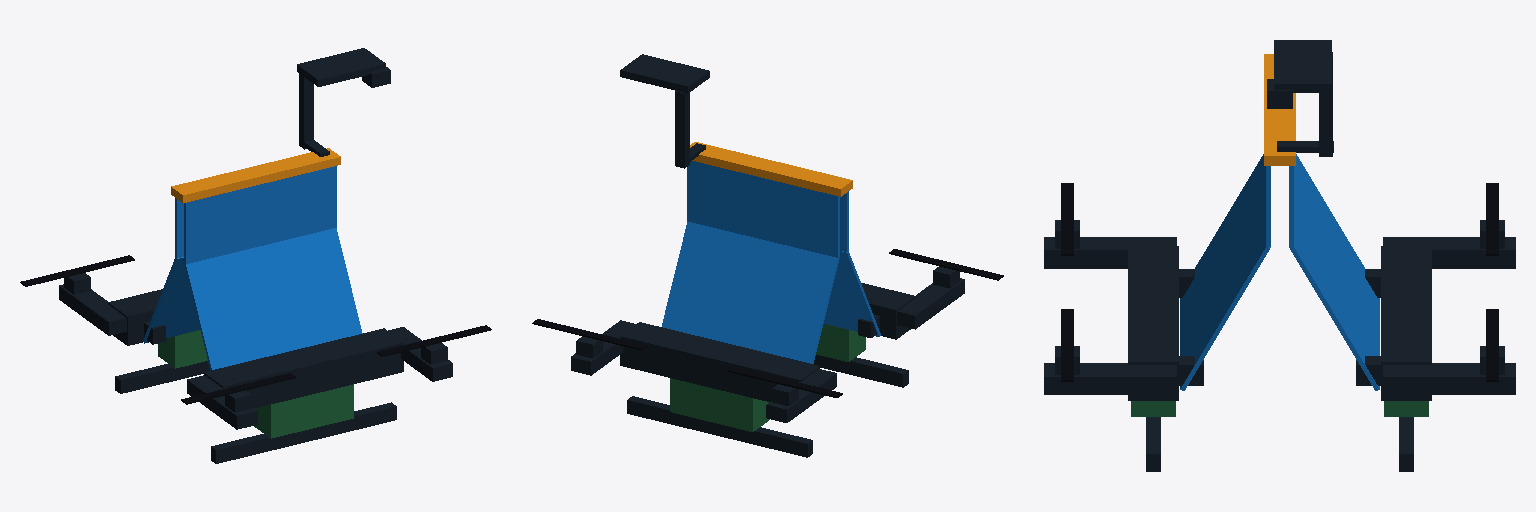
URDF robot description (powerline_perching):
<?xml version='1.0' encoding='utf-8'?>
<robot name="powerline_perching">
  <material name="frame">
    <color rgba=".12 .16 .20 1" />
  </material>
  <material name="panel">
    <color rgba=".12 .48 .78 1" />
  </material>
  <material name="battery">
    <color rgba=".18 .43 .28 1" />
  </material>
  <material name="rotor">
    <color rgba=".07 .08 .10 1" />
  </material>
  <material name="saddle">
    <color rgba=".92 .58 .12 1" />
  </material>
  <link name="base_link">
    <inertial>
      <origin xyz="0.006551366309 0.0007097890003 0.03183120028" rpy="0 0 0" />
      <mass value="2.891" />
      <inertia ixx="0.219188799889" ixy="-0.000406316596333" ixz="-0.0103420370668" iyy="0.140336191501" iyz="-0.00103571837703" izz="0.217747667632" />
    </inertial>
    <visual name="left_body_visual">
      <origin xyz="0 0.22 0" rpy="0 0 0" />
      <geometry>
        <box size="0.48 0.09 0.075" />
      </geometry>
      <material name="frame" />
    </visual>
    <collision name="left_body_collision">
      <origin xyz="0 0.22 0" rpy="0 0 0" />
      <geometry>
        <box size="0.48 0.09 0.075" />
      </geometry>
    </collision>
    <visual name="left_battery_visual">
      <origin xyz="0 0.22 -0.0825" rpy="0 0 0" />
      <geometry>
        <box size="0.22 0.078 0.09" />
      </geometry>
      <material name="battery" />
    </visual>
    <collision name="left_battery_collision">
      <origin xyz="0 0.22 -0.0825" rpy="0 0 0" />
      <geometry>
        <box size="0.22 0.078 0.09" />
      </geometry>
    </collision>
    <visual name="left_flare_visual">
      <origin xyz="0 0.095 0.1025" rpy="0.4993467217 0 0" />
      <geometry>
        <box size="0.4 0.008 0.3132491022" />
      </geometry>
      <material name="panel" />
    </visual>
    <collision name="left_flare_collision">
      <origin xyz="0 0.095 0.1025" rpy="0.4993467217 0 0" />
      <geometry>
        <box size="0.4 0.008 0.3132491022" />
      </geometry>
    </collision>
    <visual name="left_throat_visual">
      <origin xyz="0 0.02 0.32" rpy="0 0 0" />
      <geometry>
        <box size="0.4 0.008 0.16" />
      </geometry>
      <material name="panel" />
    </visual>
    <collision name="left_throat_collision">
      <origin xyz="0 0.02 0.32" rpy="0 0 0" />
      <geometry>
        <box size="0.4 0.008 0.16" />
      </geometry>
    </collision>
    <visual name="left_front_arm_visual">
      <origin xyz="0.26 0.295 0.015" rpy="0 0 0" />
      <geometry>
        <box size="0.055 0.23 0.035" />
      </geometry>
      <material name="frame" />
    </visual>
    <collision name="left_front_arm_collision">
      <origin xyz="0.26 0.295 0.015" rpy="0 0 0" />
      <geometry>
        <box size="0.055 0.23 0.035" />
      </geometry>
    </collision>
    <visual name="left_front_motor_visual">
      <origin xyz="0.26 0.37 0.045" rpy="0 0 0" />
      <geometry>
        <box size="0.045 0.045 0.045" />
      </geometry>
      <material name="frame" />
    </visual>
    <collision name="left_front_motor_collision">
      <origin xyz="0.26 0.37 0.045" rpy="0 0 0" />
      <geometry>
        <box size="0.045 0.045 0.045" />
      </geometry>
    </collision>
    <visual name="left_rear_arm_visual">
      <origin xyz="-0.26 0.295 0.015" rpy="0 0 0" />
      <geometry>
        <box size="0.055 0.23 0.035" />
      </geometry>
      <material name="frame" />
    </visual>
    <collision name="left_rear_arm_collision">
      <origin xyz="-0.26 0.295 0.015" rpy="0 0 0" />
      <geometry>
        <box size="0.055 0.23 0.035" />
      </geometry>
    </collision>
    <visual name="left_rear_motor_visual">
      <origin xyz="-0.26 0.37 0.045" rpy="0 0 0" />
      <geometry>
        <box size="0.045 0.045 0.045" />
      </geometry>
      <material name="frame" />
    </visual>
    <collision name="left_rear_motor_collision">
      <origin xyz="-0.26 0.37 0.045" rpy="0 0 0" />
      <geometry>
        <box size="0.045 0.045 0.045" />
      </geometry>
    </collision>
    <visual name="left_skid_visual">
      <origin xyz="0 0.22 -0.155" rpy="0 0 0" />
      <geometry>
        <box size="0.48 0.025 0.035" />
      </geometry>
      <material name="frame" />
    </visual>
    <collision name="left_skid_collision">
      <origin xyz="0 0.22 -0.155" rpy="0 0 0" />
      <geometry>
        <box size="0.48 0.025 0.035" />
      </geometry>
    </collision>
    <visual name="left_front_mount_visual">
      <origin xyz="0.18 0.178 -0.007" rpy="0 0 0" />
      <geometry>
        <box size="0.035 0.09 0.04" />
      </geometry>
      <material name="frame" />
    </visual>
    <collision name="left_front_mount_collision">
      <origin xyz="0.18 0.178 -0.007" rpy="0 0 0" />
      <geometry>
        <box size="0.035 0.09 0.04" />
      </geometry>
    </collision>
    <visual name="left_rear_mount_visual">
      <origin xyz="-0.18 0.178 -0.007" rpy="0 0 0" />
      <geometry>
        <box size="0.035 0.09 0.04" />
      </geometry>
      <material name="frame" />
    </visual>
    <collision name="left_rear_mount_collision">
      <origin xyz="-0.18 0.178 -0.007" rpy="0 0 0" />
      <geometry>
        <box size="0.035 0.09 0.04" />
      </geometry>
    </collision>
    <visual name="right_body_visual">
      <origin xyz="0 -0.22 0" rpy="0 0 0" />
      <geometry>
        <box size="0.48 0.09 0.075" />
      </geometry>
      <material name="frame" />
    </visual>
    <collision name="right_body_collision">
      <origin xyz="0 -0.22 0" rpy="0 0 0" />
      <geometry>
        <box size="0.48 0.09 0.075" />
      </geometry>
    </collision>
    <visual name="right_battery_visual">
      <origin xyz="0 -0.22 -0.0825" rpy="0 0 0" />
      <geometry>
        <box size="0.22 0.078 0.09" />
      </geometry>
      <material name="battery" />
    </visual>
    <collision name="right_battery_collision">
      <origin xyz="0 -0.22 -0.0825" rpy="0 0 0" />
      <geometry>
        <box size="0.22 0.078 0.09" />
      </geometry>
    </collision>
    <visual name="right_flare_visual">
      <origin xyz="0 -0.095 0.1025" rpy="-0.4993467217 0 0" />
      <geometry>
        <box size="0.4 0.008 0.3132491022" />
      </geometry>
      <material name="panel" />
    </visual>
    <collision name="right_flare_collision">
      <origin xyz="0 -0.095 0.1025" rpy="-0.4993467217 0 0" />
      <geometry>
        <box size="0.4 0.008 0.3132491022" />
      </geometry>
    </collision>
    <visual name="right_throat_visual">
      <origin xyz="0 -0.02 0.32" rpy="0 0 0" />
      <geometry>
        <box size="0.4 0.008 0.16" />
      </geometry>
      <material name="panel" />
    </visual>
    <collision name="right_throat_collision">
      <origin xyz="0 -0.02 0.32" rpy="0 0 0" />
      <geometry>
        <box size="0.4 0.008 0.16" />
      </geometry>
    </collision>
    <visual name="right_front_arm_visual">
      <origin xyz="0.26 -0.295 0.015" rpy="0 0 0" />
      <geometry>
        <box size="0.055 0.23 0.035" />
      </geometry>
      <material name="frame" />
    </visual>
    <collision name="right_front_arm_collision">
      <origin xyz="0.26 -0.295 0.015" rpy="0 0 0" />
      <geometry>
        <box size="0.055 0.23 0.035" />
      </geometry>
    </collision>
    <visual name="right_front_motor_visual">
      <origin xyz="0.26 -0.37 0.045" rpy="0 0 0" />
      <geometry>
        <box size="0.045 0.045 0.045" />
      </geometry>
      <material name="frame" />
    </visual>
    <collision name="right_front_motor_collision">
      <origin xyz="0.26 -0.37 0.045" rpy="0 0 0" />
      <geometry>
        <box size="0.045 0.045 0.045" />
      </geometry>
    </collision>
    <visual name="right_rear_arm_visual">
      <origin xyz="-0.26 -0.295 0.015" rpy="0 0 0" />
      <geometry>
        <box size="0.055 0.23 0.035" />
      </geometry>
      <material name="frame" />
    </visual>
    <collision name="right_rear_arm_collision">
      <origin xyz="-0.26 -0.295 0.015" rpy="0 0 0" />
      <geometry>
        <box size="0.055 0.23 0.035" />
      </geometry>
    </collision>
    <visual name="right_rear_motor_visual">
      <origin xyz="-0.26 -0.37 0.045" rpy="0 0 0" />
      <geometry>
        <box size="0.045 0.045 0.045" />
      </geometry>
      <material name="frame" />
    </visual>
    <collision name="right_rear_motor_collision">
      <origin xyz="-0.26 -0.37 0.045" rpy="0 0 0" />
      <geometry>
        <box size="0.045 0.045 0.045" />
      </geometry>
    </collision>
    <visual name="right_skid_visual">
      <origin xyz="0 -0.22 -0.155" rpy="0 0 0" />
      <geometry>
        <box size="0.48 0.025 0.035" />
      </geometry>
      <material name="frame" />
    </visual>
    <collision name="right_skid_collision">
      <origin xyz="0 -0.22 -0.155" rpy="0 0 0" />
      <geometry>
        <box size="0.48 0.025 0.035" />
      </geometry>
    </collision>
    <visual name="right_front_mount_visual">
      <origin xyz="0.18 -0.178 -0.007" rpy="0 0 0" />
      <geometry>
        <box size="0.035 0.09 0.04" />
      </geometry>
      <material name="frame" />
    </visual>
    <collision name="right_front_mount_collision">
      <origin xyz="0.18 -0.178 -0.007" rpy="0 0 0" />
      <geometry>
        <box size="0.035 0.09 0.04" />
      </geometry>
    </collision>
    <visual name="right_rear_mount_visual">
      <origin xyz="-0.18 -0.178 -0.007" rpy="0 0 0" />
      <geometry>
        <box size="0.035 0.09 0.04" />
      </geometry>
      <material name="frame" />
    </visual>
    <collision name="right_rear_mount_collision">
      <origin xyz="-0.18 -0.178 -0.007" rpy="0 0 0" />
      <geometry>
        <box size="0.035 0.09 0.04" />
      </geometry>
    </collision>
    <visual name="saddle_visual">
      <origin xyz="0 0 0.41" rpy="0 0 0" />
      <geometry>
        <box size="0.42 0.056 0.02" />
      </geometry>
      <material name="saddle" />
    </visual>
    <collision name="saddle_collision">
      <origin xyz="0 0 0.41" rpy="0 0 0" />
      <geometry>
        <box size="0.42 0.056 0.02" />
      </geometry>
    </collision>
    <visual name="camera_mast_visual">
      <origin xyz="0.18 0.08 0.505" rpy="0 0 0" />
      <geometry>
        <box size="0.025 0.025 0.19" />
      </geometry>
      <material name="frame" />
    </visual>
    <collision name="camera_mast_collision">
      <origin xyz="0.18 0.08 0.505" rpy="0 0 0" />
      <geometry>
        <box size="0.025 0.025 0.19" />
      </geometry>
    </collision>
    <visual name="camera_mount_visual">
      <origin xyz="0.18 0.044 0.423" rpy="0 0 0" />
      <geometry>
        <box size="0.025 0.1 0.012" />
      </geometry>
      <material name="frame" />
    </visual>
    <collision name="camera_mount_collision">
      <origin xyz="0.18 0.044 0.423" rpy="0 0 0" />
      <geometry>
        <box size="0.025 0.1 0.012" />
      </geometry>
    </collision>
    <visual name="camera_boom_visual">
      <origin xyz="0.25 0.04 0.61" rpy="0 0 0" />
      <geometry>
        <box size="0.18 0.1 0.018" />
      </geometry>
      <material name="frame" />
    </visual>
    <collision name="camera_boom_collision">
      <origin xyz="0.25 0.04 0.61" rpy="0 0 0" />
      <geometry>
        <box size="0.18 0.1 0.018" />
      </geometry>
    </collision>
    <visual name="camera_body_visual">
      <origin xyz="0.32 0 0.59" rpy="0 0 0" />
      <geometry>
        <box size="0.05 0.045 0.035" />
      </geometry>
      <material name="frame" />
    </visual>
    <collision name="camera_body_collision">
      <origin xyz="0.32 0 0.59" rpy="0 0 0" />
      <geometry>
        <box size="0.05 0.045 0.035" />
      </geometry>
    </collision>
  </link>
  <link name="rotor_0">
    <inertial>
      <origin xyz="0 0 0" rpy="0 0 0" />
      <mass value="0.018" />
      <inertia ixx="8.88e-07" ixy="0" ixz="0" iyy="0.000126174" iyz="0" izz="0.000127014" />
    </inertial>
    <visual name="rotor_0_visual">
      <origin xyz="0 0 0" rpy="0 0 0" />
      <geometry>
        <box size="0.29 0.024 0.004" />
      </geometry>
      <material name="rotor" />
    </visual>
    <collision name="rotor_0_collision">
      <origin xyz="0 0 0" rpy="0 0 0" />
      <geometry>
        <box size="0.29 0.024 0.004" />
      </geometry>
    </collision>
  </link>
  <joint name="rotor_0_joint" type="continuous">
    <parent link="base_link" />
    <child link="rotor_0" />
    <origin xyz="0.26 -0.37 0.079" rpy="0 0 0" />
    <axis xyz="0 0 1" />
  </joint>
  <link name="rotor_1">
    <inertial>
      <origin xyz="0 0 0" rpy="0 0 0" />
      <mass value="0.018" />
      <inertia ixx="8.88e-07" ixy="0" ixz="0" iyy="0.000126174" iyz="0" izz="0.000127014" />
    </inertial>
    <visual name="rotor_1_visual">
      <origin xyz="0 0 0" rpy="0 0 0" />
      <geometry>
        <box size="0.29 0.024 0.004" />
      </geometry>
      <material name="rotor" />
    </visual>
    <collision name="rotor_1_collision">
      <origin xyz="0 0 0" rpy="0 0 0" />
      <geometry>
        <box size="0.29 0.024 0.004" />
      </geometry>
    </collision>
  </link>
  <joint name="rotor_1_joint" type="continuous">
    <parent link="base_link" />
    <child link="rotor_1" />
    <origin xyz="-0.26 -0.37 0.079" rpy="0 0 0" />
    <axis xyz="0 0 1" />
  </joint>
  <link name="rotor_2">
    <inertial>
      <origin xyz="0 0 0" rpy="0 0 0" />
      <mass value="0.018" />
      <inertia ixx="8.88e-07" ixy="0" ixz="0" iyy="0.000126174" iyz="0" izz="0.000127014" />
    </inertial>
    <visual name="rotor_2_visual">
      <origin xyz="0 0 0" rpy="0 0 0" />
      <geometry>
        <box size="0.29 0.024 0.004" />
      </geometry>
      <material name="rotor" />
    </visual>
    <collision name="rotor_2_collision">
      <origin xyz="0 0 0" rpy="0 0 0" />
      <geometry>
        <box size="0.29 0.024 0.004" />
      </geometry>
    </collision>
  </link>
  <joint name="rotor_2_joint" type="continuous">
    <parent link="base_link" />
    <child link="rotor_2" />
    <origin xyz="-0.26 0.37 0.079" rpy="0 0 0" />
    <axis xyz="0 0 1" />
  </joint>
  <link name="rotor_3">
    <inertial>
      <origin xyz="0 0 0" rpy="0 0 0" />
      <mass value="0.018" />
      <inertia ixx="8.88e-07" ixy="0" ixz="0" iyy="0.000126174" iyz="0" izz="0.000127014" />
    </inertial>
    <visual name="rotor_3_visual">
      <origin xyz="0 0 0" rpy="0 0 0" />
      <geometry>
        <box size="0.29 0.024 0.004" />
      </geometry>
      <material name="rotor" />
    </visual>
    <collision name="rotor_3_collision">
      <origin xyz="0 0 0" rpy="0 0 0" />
      <geometry>
        <box size="0.29 0.024 0.004" />
      </geometry>
    </collision>
  </link>
  <joint name="rotor_3_joint" type="continuous">
    <parent link="base_link" />
    <child link="rotor_3" />
    <origin xyz="0.26 0.37 0.079" rpy="0 0 0" />
    <axis xyz="0 0 1" />
  </joint>
</robot>

--- Render facts (derived) ---
The picture shows the robot from 3 angles, left to right: view 1: azimuth 30°, elevation 25°; view 2: azimuth 150°, elevation 25°; view 3: azimuth 270°, elevation 25°; orthographic projection.
Model powerline_perching with 5 links and 4 joints (4 continuous), rooted at base_link, posed every joint at zero.
Links seen in each view (by area): view 1: base_link, rotor_2, rotor_0, rotor_1; view 2: base_link, rotor_1, rotor_2, rotor_3; view 3: base_link, rotor_0, rotor_1, rotor_2, rotor_3.
Link boxes in pixels (x1,y1,x2,y2): base_link: [59, 48, 452, 463]; rotor_2: [20, 255, 134, 286]; rotor_0: [377, 325, 491, 356]; rotor_1: [181, 373, 295, 404]; base_link: [571, 54, 964, 457]; rotor_1: [889, 249, 1003, 280]; rotor_2: [728, 366, 842, 397]; rotor_3: [532, 319, 646, 350]; base_link: [1044, 40, 1515, 471]; rotor_0: [1061, 309, 1073, 381]; rotor_1: [1061, 183, 1073, 255]; rotor_2: [1486, 183, 1498, 255]; rotor_3: [1486, 309, 1498, 381].
Bounding box of the posed robot: 0.81 × 0.82 × 0.7915 m (x, y, z).
Geometry: primitives only (box / cylinder / sphere), no mesh files.
